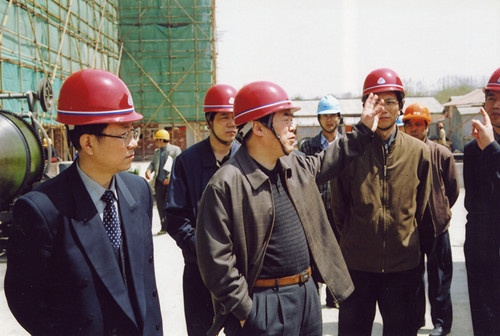blue: (313, 92, 342, 134)
red: (56, 69, 139, 175), (232, 80, 298, 156), (361, 68, 407, 132), (200, 84, 240, 144), (477, 63, 500, 130)
yellow: (401, 99, 431, 138), (152, 128, 169, 147)
